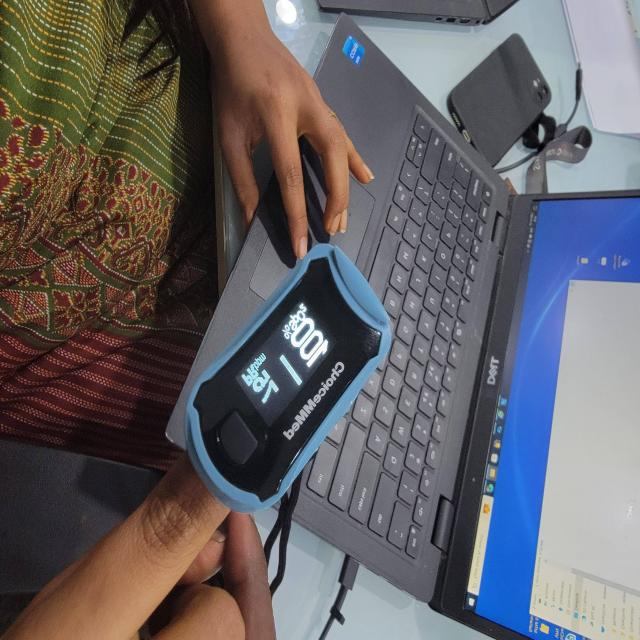spo2: (165, 243, 393, 516)
